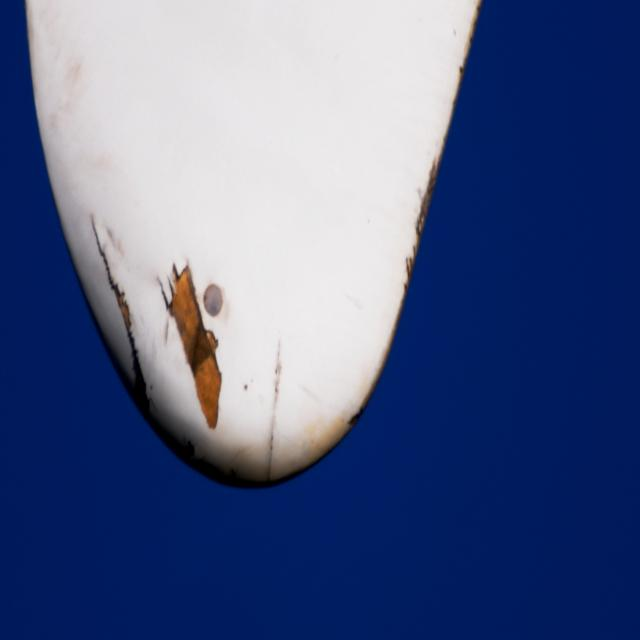damage: (83, 172, 264, 472)
